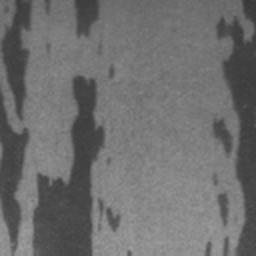Red iron sheet: (31, 74, 120, 256), (211, 0, 256, 256), (0, 88, 31, 256), (0, 0, 35, 123), (74, 0, 101, 40), (216, 192, 230, 227), (108, 63, 116, 81), (44, 0, 51, 15), (205, 241, 212, 256), (127, 248, 133, 256)
